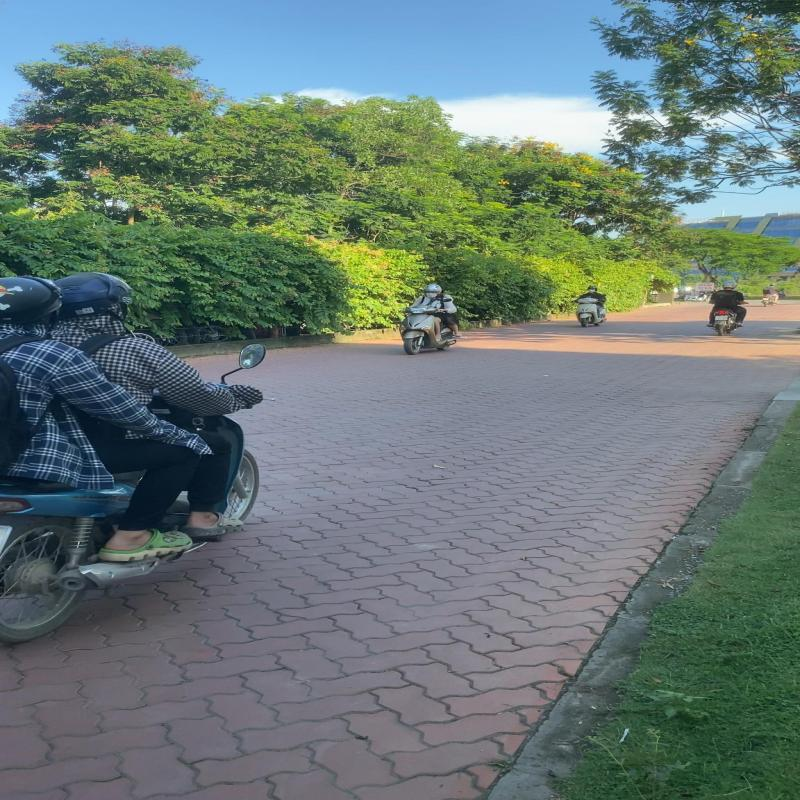helmet: (51, 272, 135, 316), (0, 275, 65, 320)
motorcyclist: (0, 268, 267, 648)
